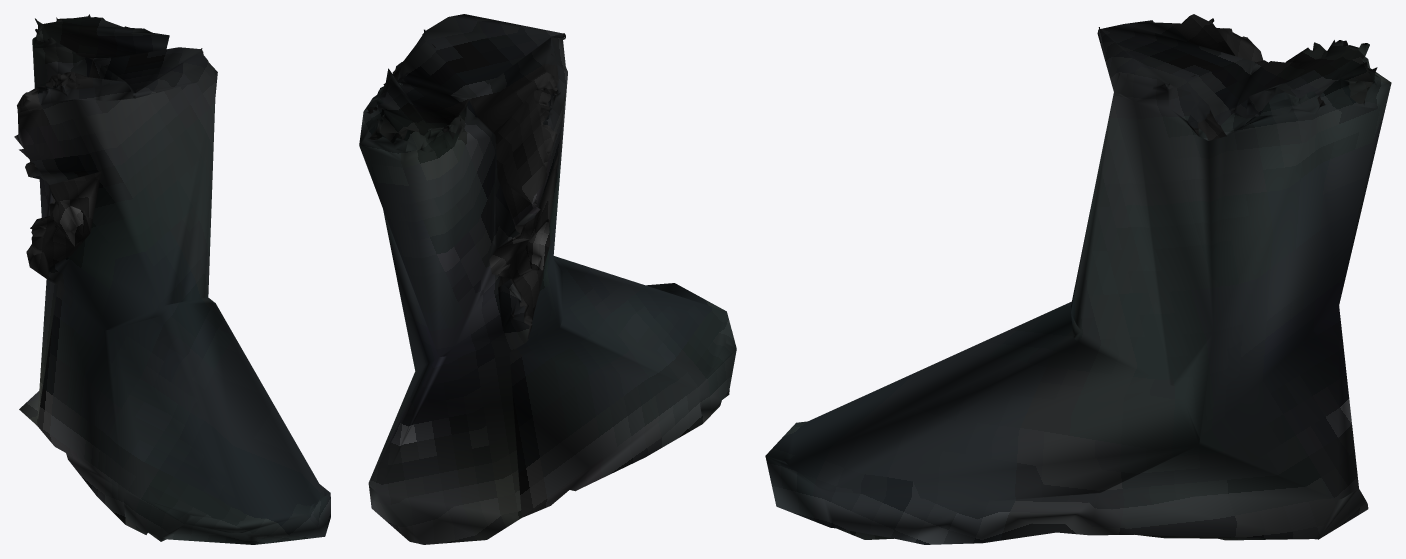
Rendered from UGG_Bailey_Button_Womens_Boots_Black_7-low.glb.
3 views of the same model, side by side, from view 1: azimuth 30°, elevation 25°; view 2: azimuth 150°, elevation 25°; view 3: azimuth 270°, elevation 25° (orthographic). The views are drawn at different scales.
Parts seen in each view (by area): view 1: UGG_Bailey_Button_Womens_Boots_Black_7; view 2: UGG_Bailey_Button_Womens_Boots_Black_7; view 3: UGG_Bailey_Button_Womens_Boots_Black_7.
Part boxes in pixels (<box>): UGG_Bailey_Button_Womens_Boots_Black_7: <box>14,14,330,544</box>; UGG_Bailey_Button_Womens_Boots_Black_7: <box>359,14,736,544</box>; UGG_Bailey_Button_Womens_Boots_Black_7: <box>765,14,1391,544</box>.
Size of the model in its own units: 0.1126 by 0.235 by 0.2805.
Materials: 1 (1 with a texture image).
